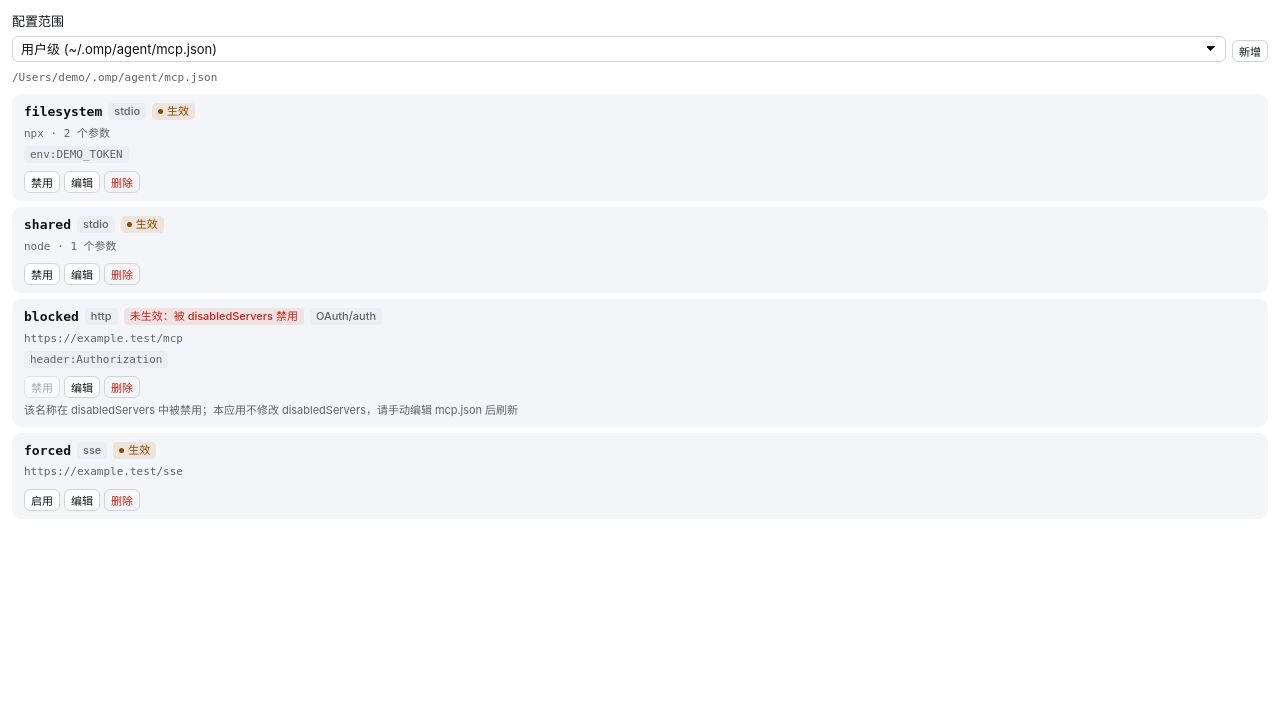
Test: 编辑与保存 › 编辑预填真实值；无改动保存成功并提示重载
Expected: the element with test id "mcp-row-user-filesystem" is shown, [12,94,1268,201]
Click the button with aria-label "编辑 filesystem": (82, 182) [64,171,100,193]
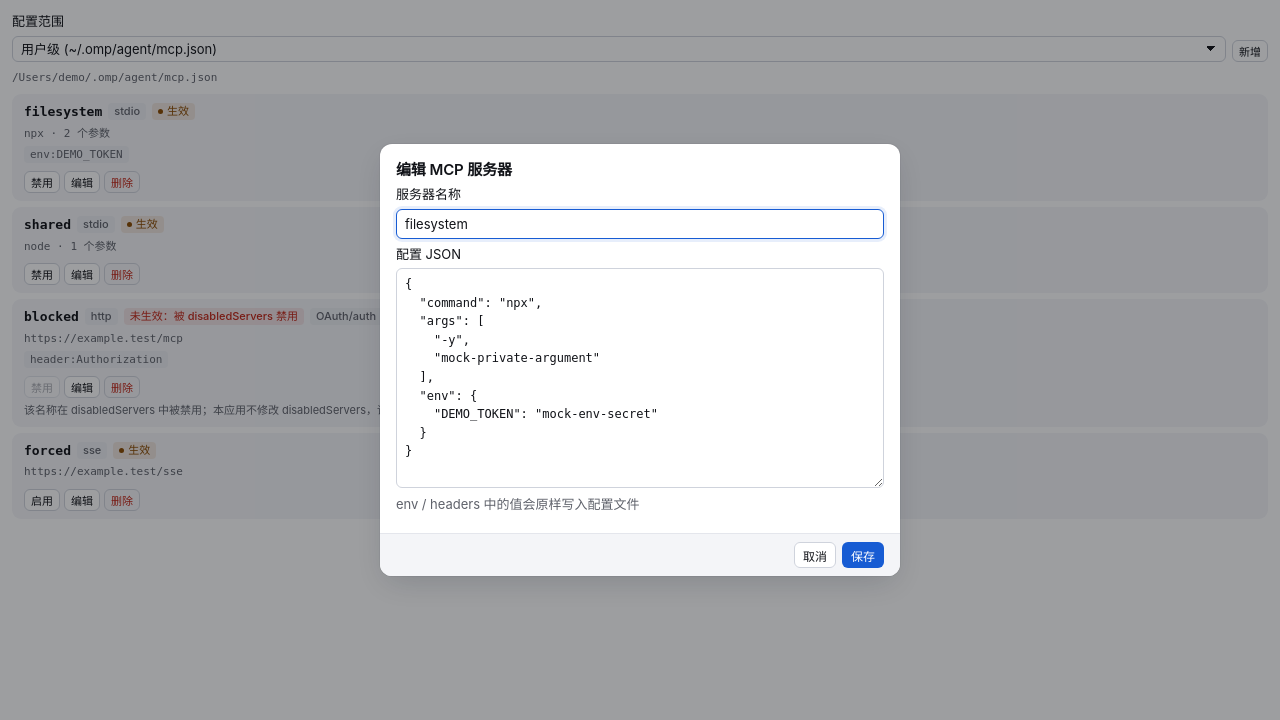
Click the button "保存": (863, 556) [842,542,884,568]
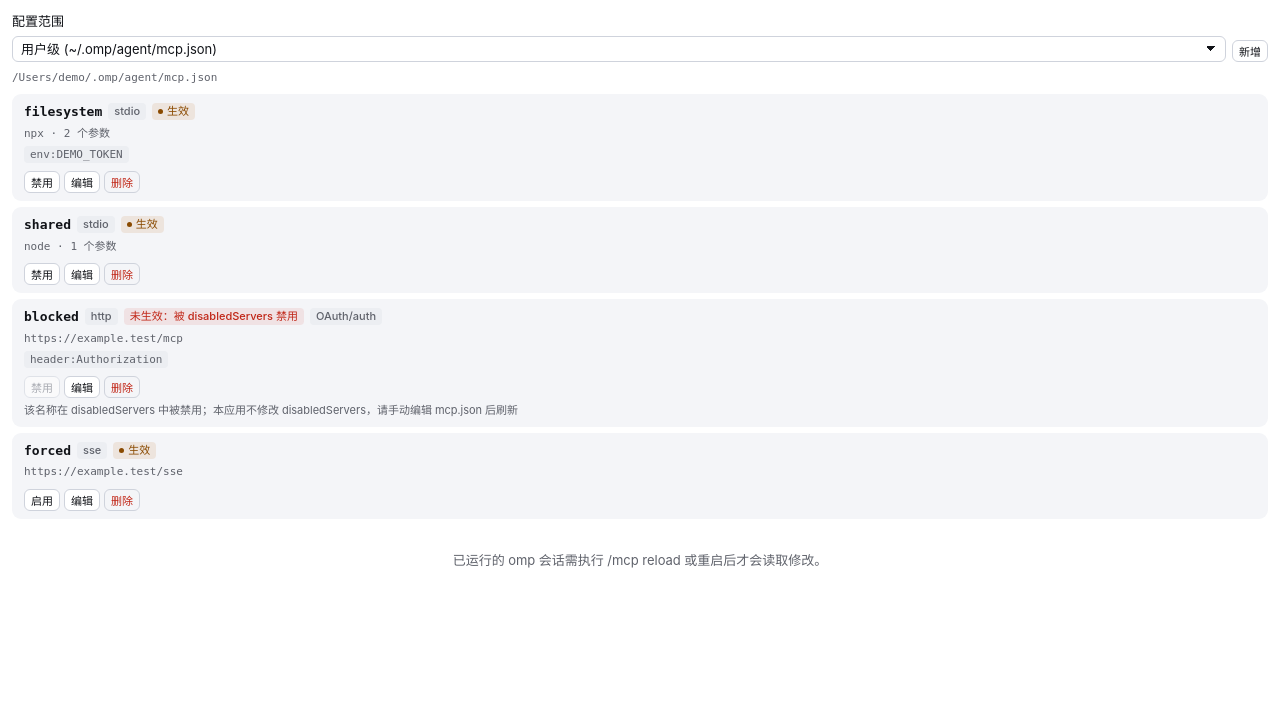
Expected: the dialog is gone
Expected: the text "已运行的 omp 会话需执行 /mcp reload 或重启后才会读取修改。" is shown, [453,552,827,568]
